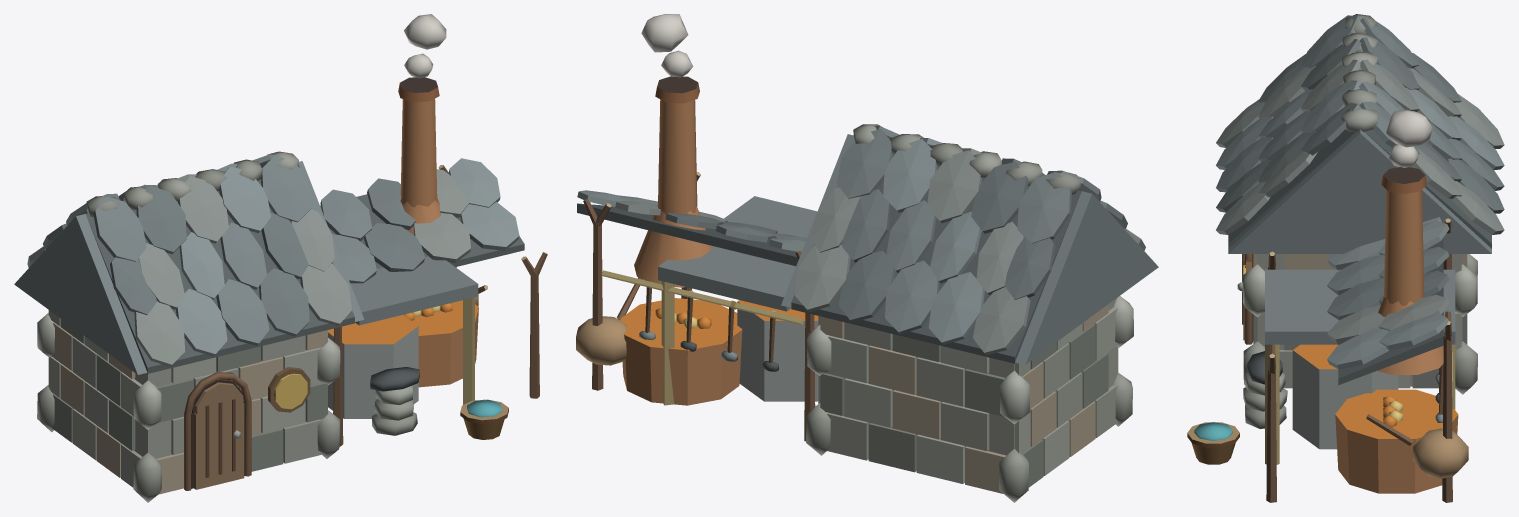
The model's file is smithy.glb.
The picture shows the model from 3 angles, left to right: view 1: azimuth 30°, elevation 25°; view 2: azimuth 150°, elevation 25°; view 3: azimuth 270°, elevation 25°; orthographic projection. The views are drawn at different scales.
Visible parts, largest first — view 1: body, body__far, body_nl; view 2: body, body__far, body_nl; view 3: body, body__far, body_nl.
Boxes of the visible parts, x1,y1,x2,y2 form: body: (27, 77, 547, 502); body__far: (14, 161, 478, 458); body_nl: (85, 14, 524, 373); body: (576, 76, 1145, 502); body__far: (658, 134, 1158, 455); body_nl: (577, 14, 1081, 363); body: (1187, 14, 1504, 502); body__far: (1228, 129, 1491, 464); body_nl: (1228, 109, 1491, 427).
Size of the model in its own units: 3.74 by 2.8 by 2.17.
